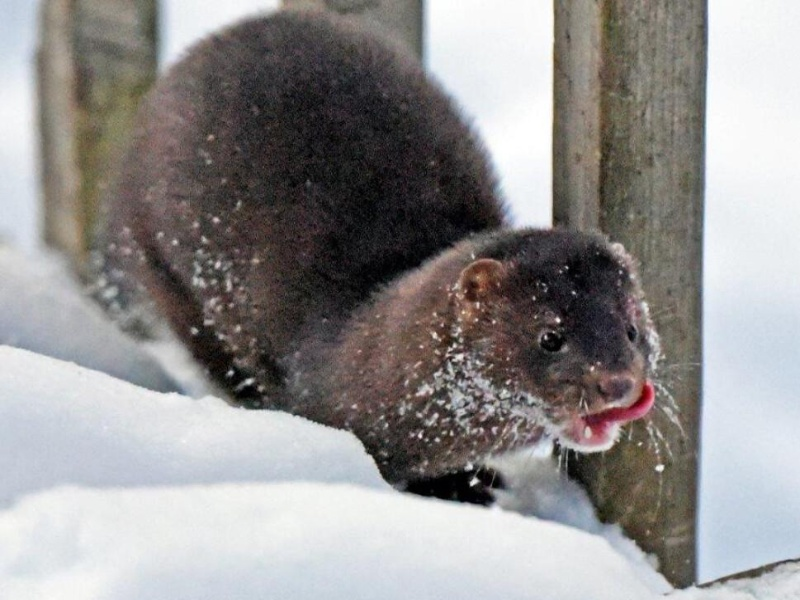minkish: (78, 8, 666, 507)
